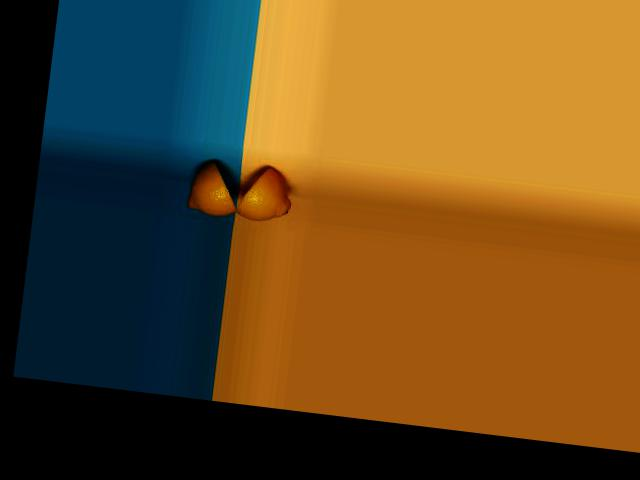lemon: (176, 143, 299, 226)
